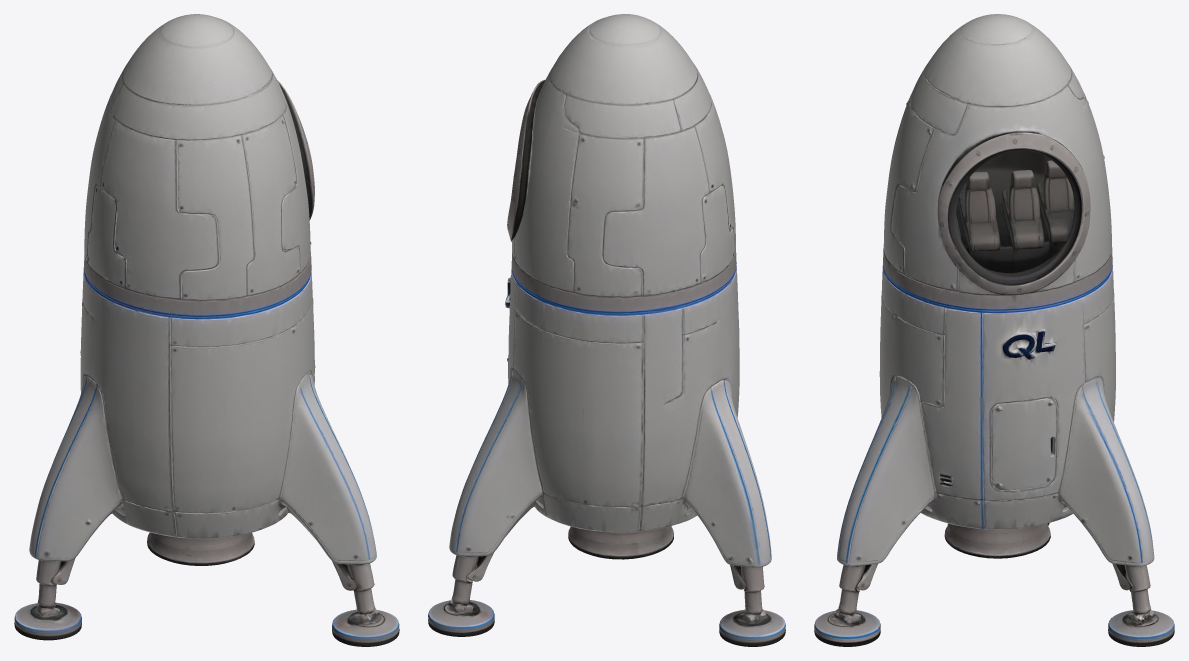
Rendered from rocket.glb.
The picture shows the model from 3 angles, left to right: view 1: azimuth 30°, elevation 25°; view 2: azimuth 150°, elevation 25°; view 3: azimuth 270°, elevation 25°; orthographic projection.
Visible parts, largest first — view 1: tripo_node_35e686d3-d627-44f2-95dd-0f5ae1480adc; view 2: tripo_node_35e686d3-d627-44f2-95dd-0f5ae1480adc; view 3: tripo_node_35e686d3-d627-44f2-95dd-0f5ae1480adc.
Boxes of the visible parts, x1,y1,x2,y2 form: tripo_node_35e686d3-d627-44f2-95dd-0f5ae1480adc: (14,14,399,646); tripo_node_35e686d3-d627-44f2-95dd-0f5ae1480adc: (428,14,785,646); tripo_node_35e686d3-d627-44f2-95dd-0f5ae1480adc: (814,14,1174,646).
Size of the model in its own units: 0.5108 by 0.9788 by 0.5603.
1 material, 1 textured.
